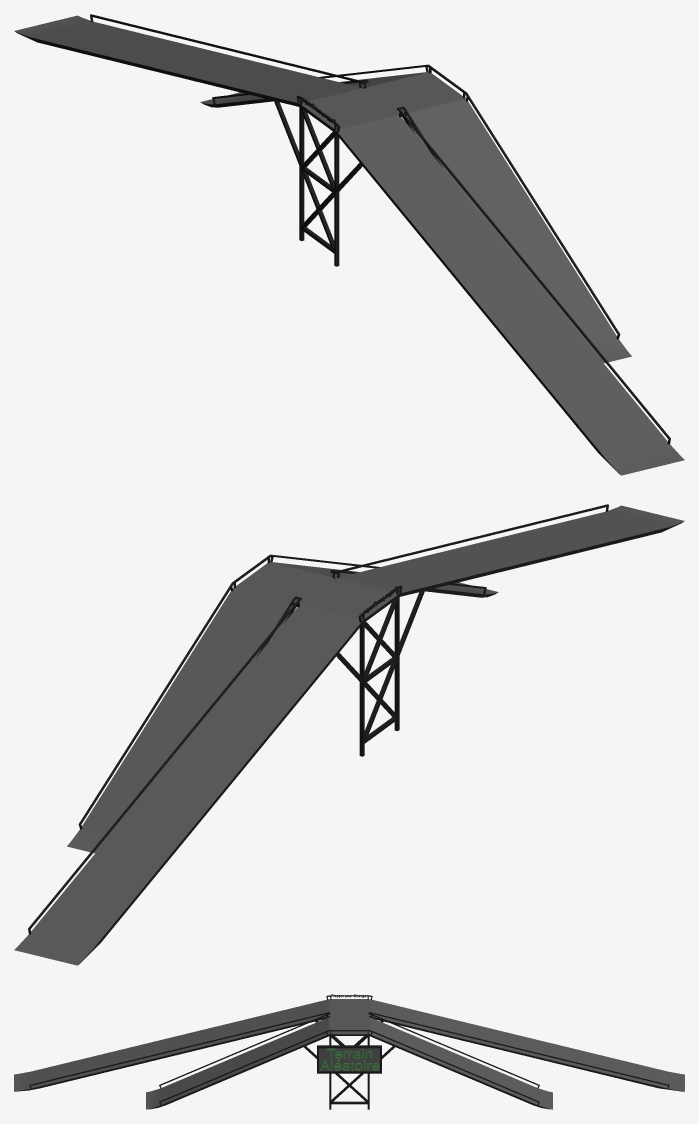
Rendered from Nouveau Pont ouvert v10.fbx.
3 views of the same model, one above another, from view 1: azimuth 30°, elevation 25°; view 2: azimuth 150°, elevation 25°; view 3: azimuth 270°, elevation 25° (orthographic). The views are drawn at different scales.
Parts seen in each view (by area): view 1: Body2; view 2: Body2; view 3: Body2.
Part boxes in pixels (x1,y1,x2,y2): Body2: (14,14,684,475); Body2: (14,504,684,965); Body2: (14,999,684,1109).
Size of the model in its own units: 42.5 by 43.6 by 331.
